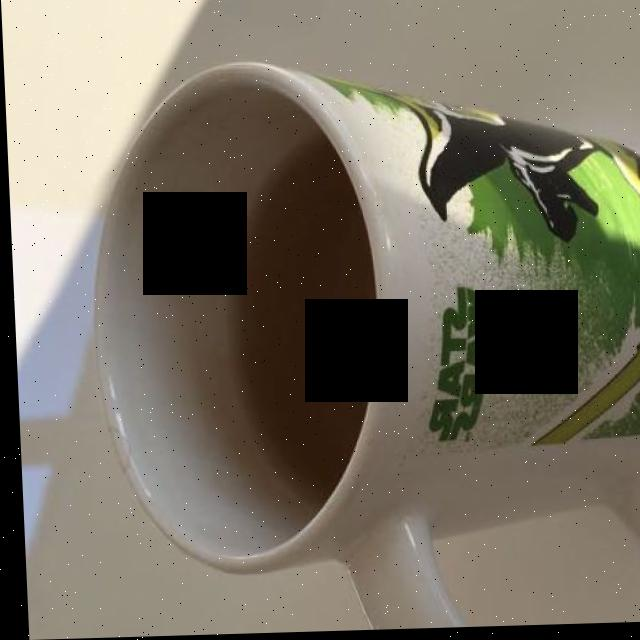tea-green: (225, 135, 370, 504)
